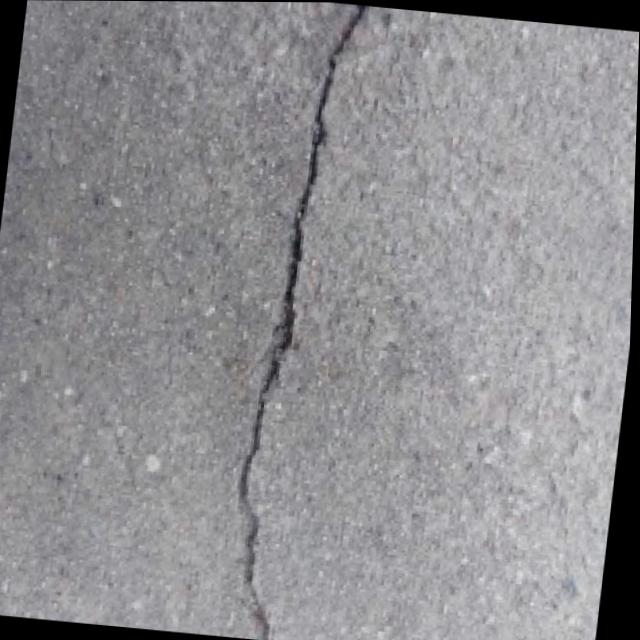Crack: (187, 1, 419, 640)
